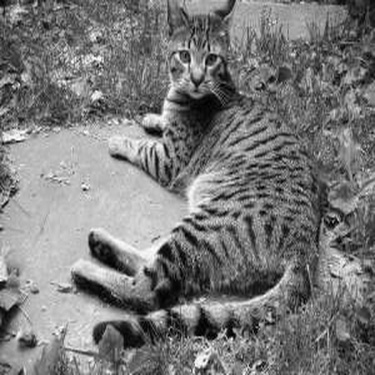cat: (69, 1, 324, 349)
